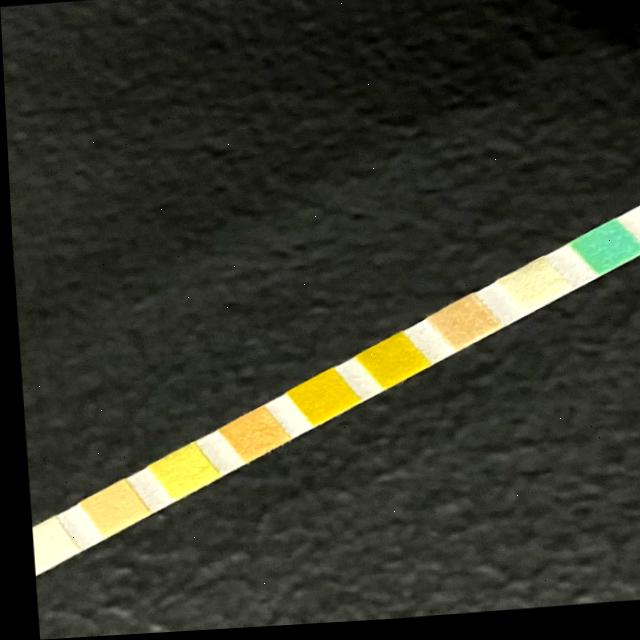Bilirubin: (510, 274, 550, 308)
Blood: (299, 381, 338, 418)
Glucose: (584, 236, 622, 271)
Ketone: (440, 309, 477, 346)
Nitrite: (25, 527, 57, 562)
Protein: (160, 455, 197, 489)
SpGravity: (367, 346, 406, 383)
Urobilinogen: (86, 491, 128, 526)
pH: (228, 419, 267, 454)
